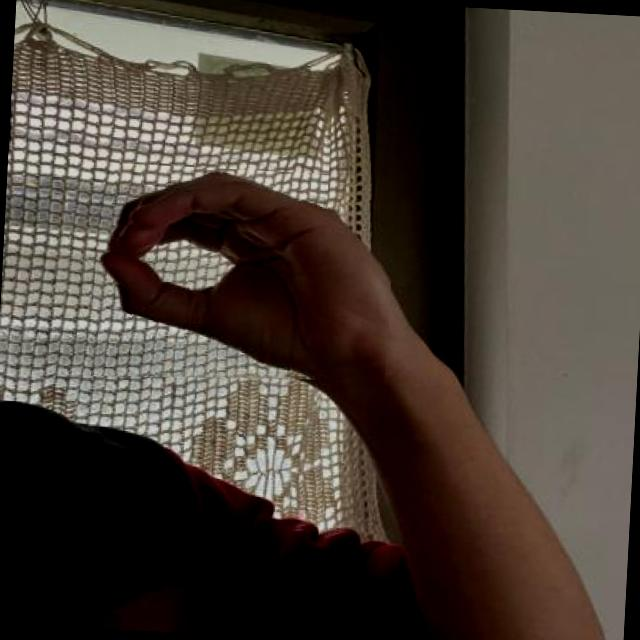O: (90, 162, 398, 392)
